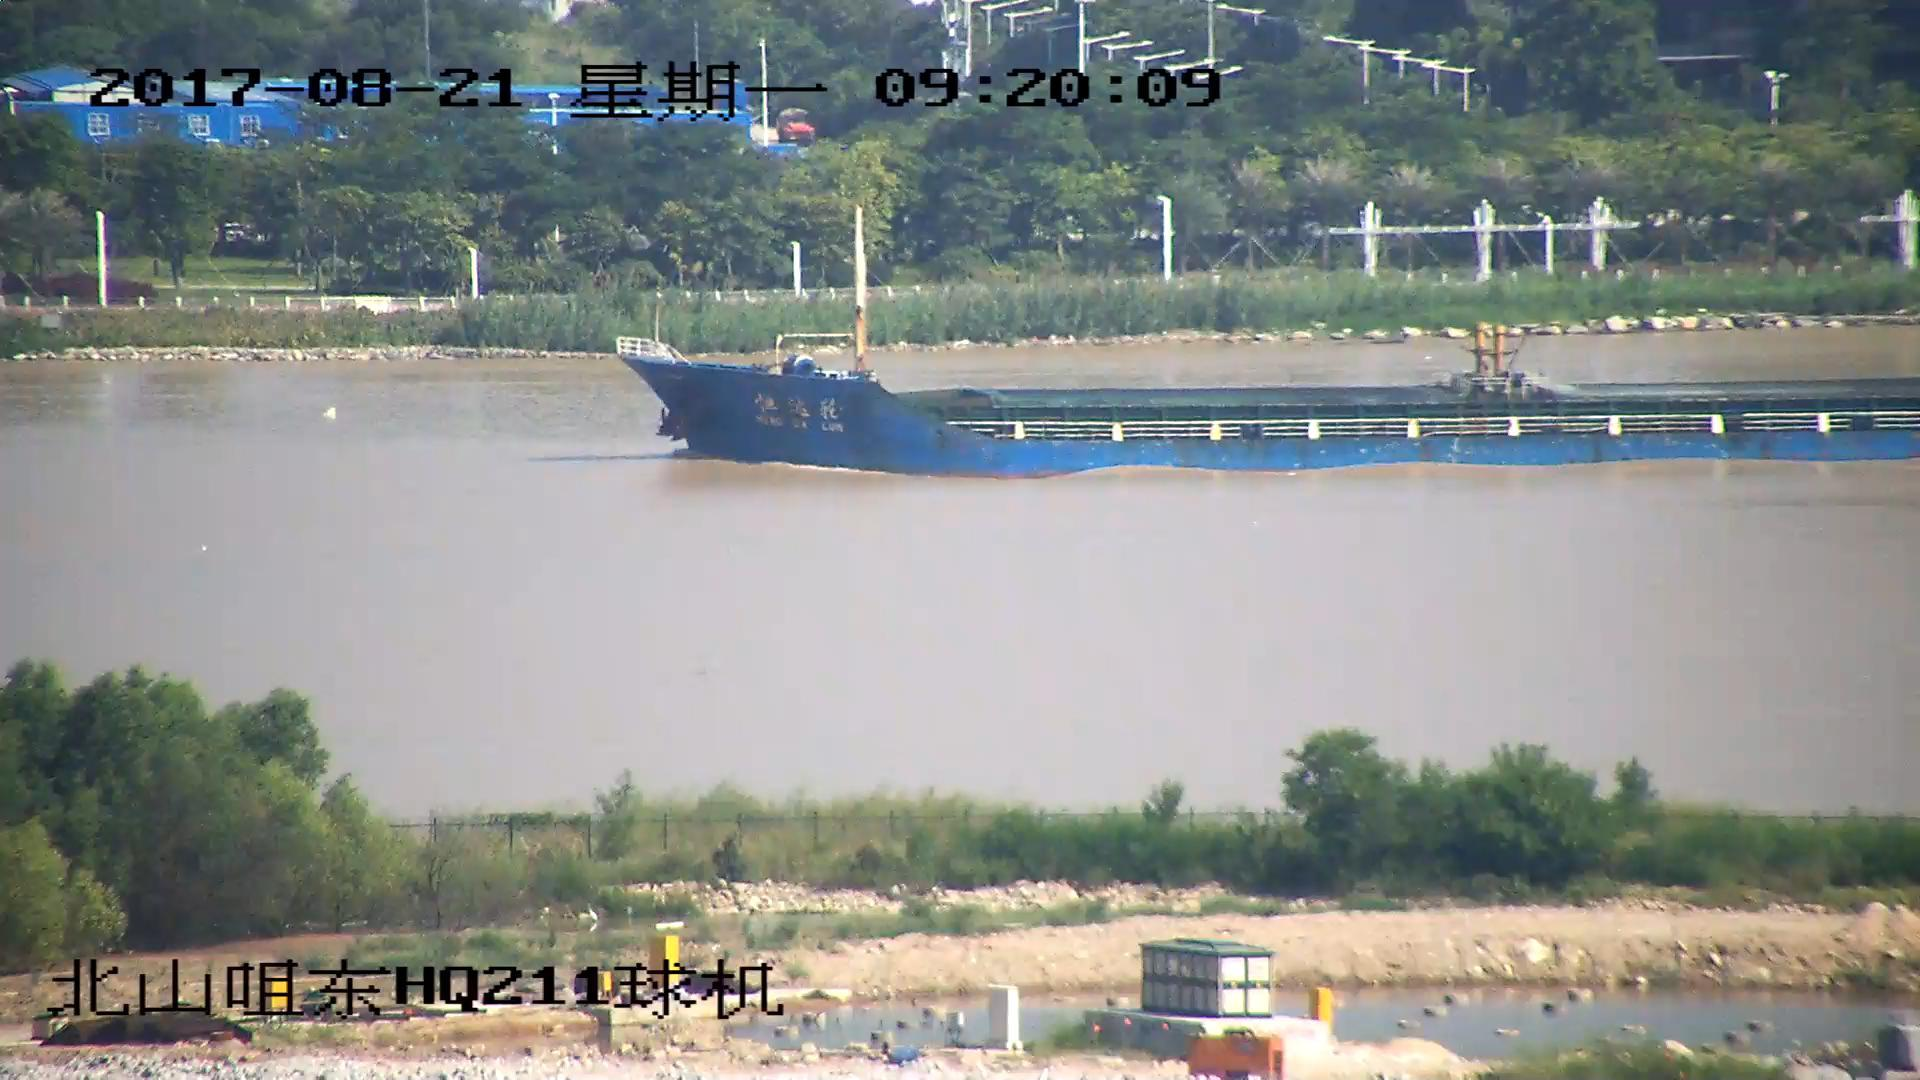Ship: (616, 203, 1920, 485)
